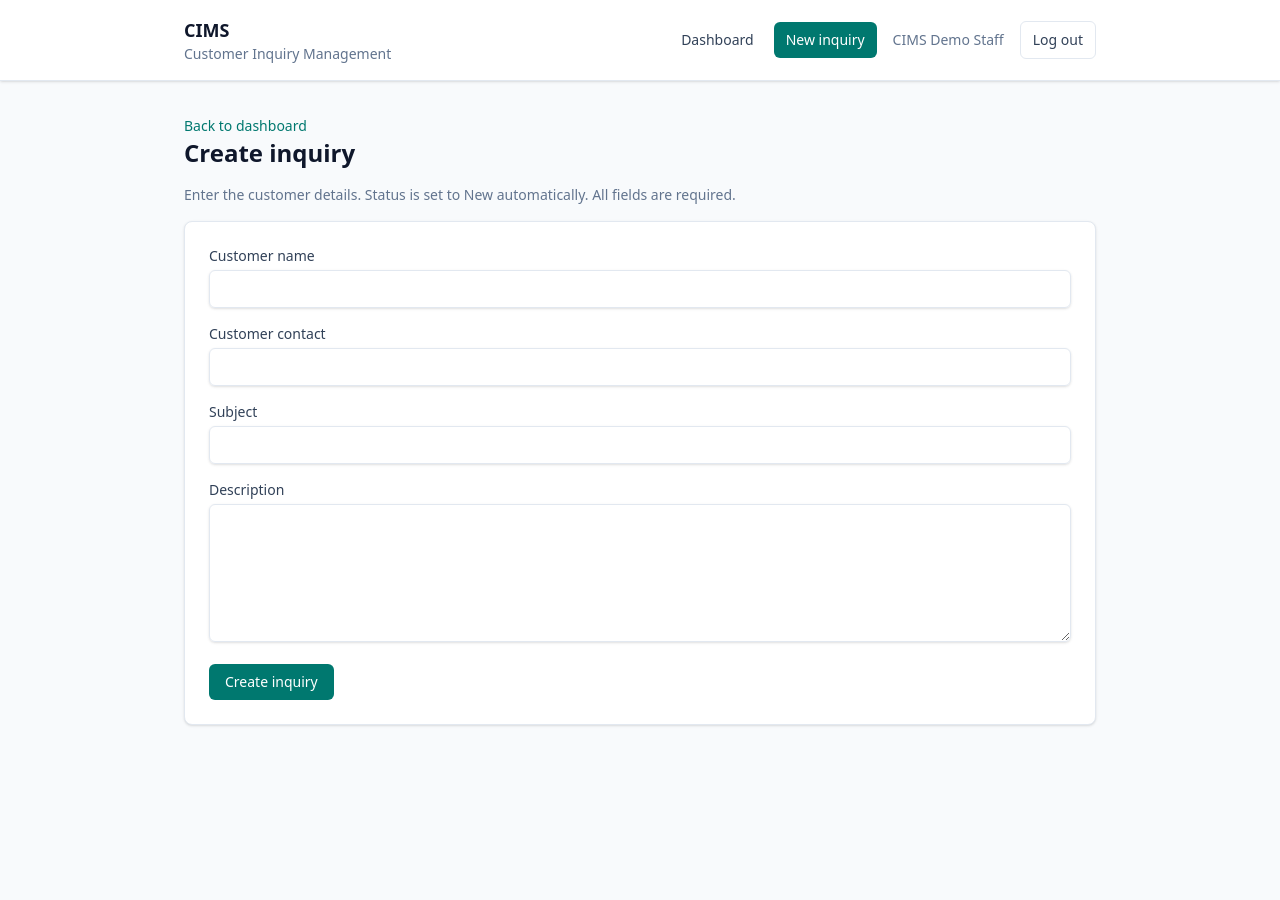
Create inquiry › creates an inquiry with only the four permitted fields and opens details
Type "  Ada Customer  " into the field labelled "Customer name" at (640, 289), box [209,270,1071,308]
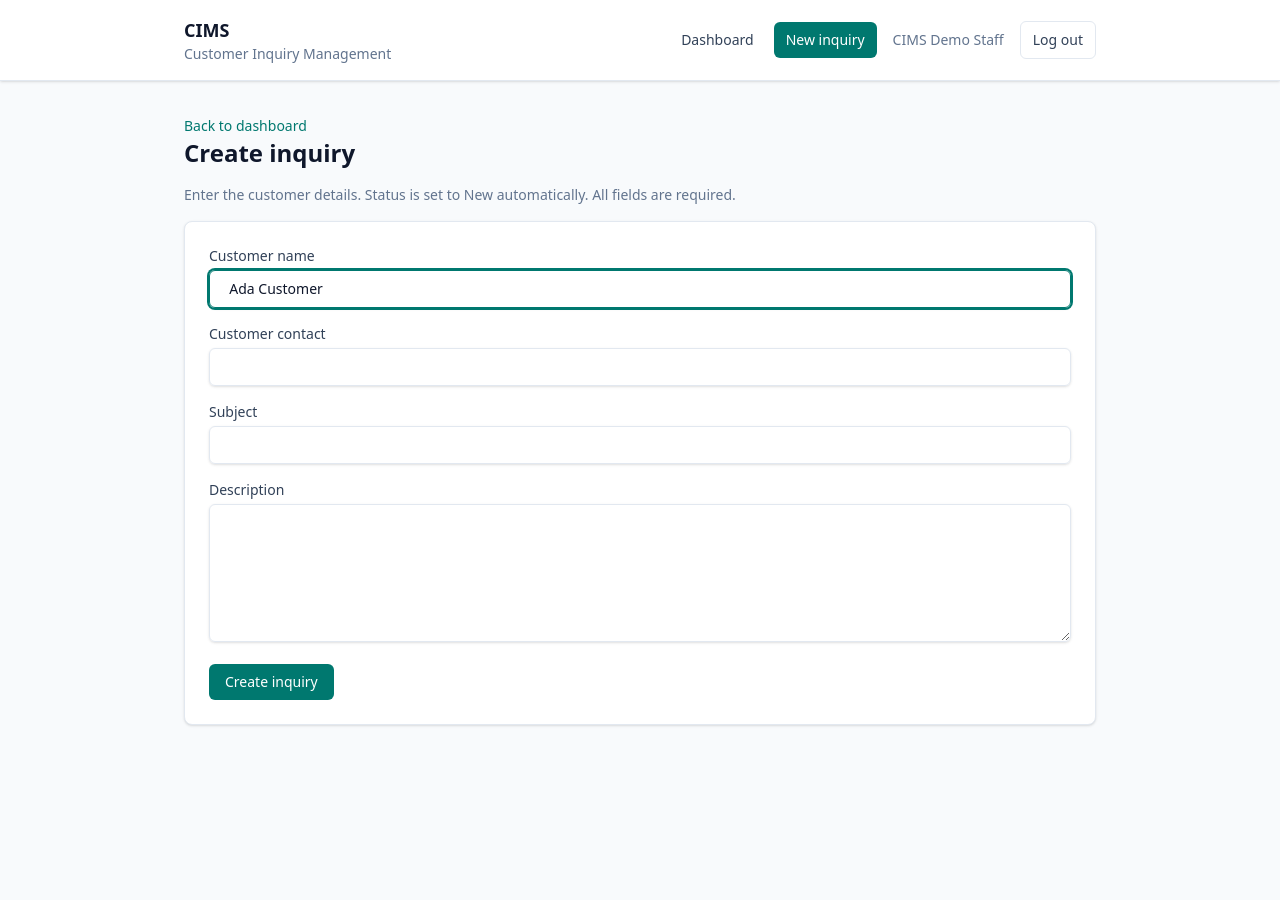
Type "ada@example.com" into the field labelled "Customer contact" at (640, 367), box [209,348,1071,386]
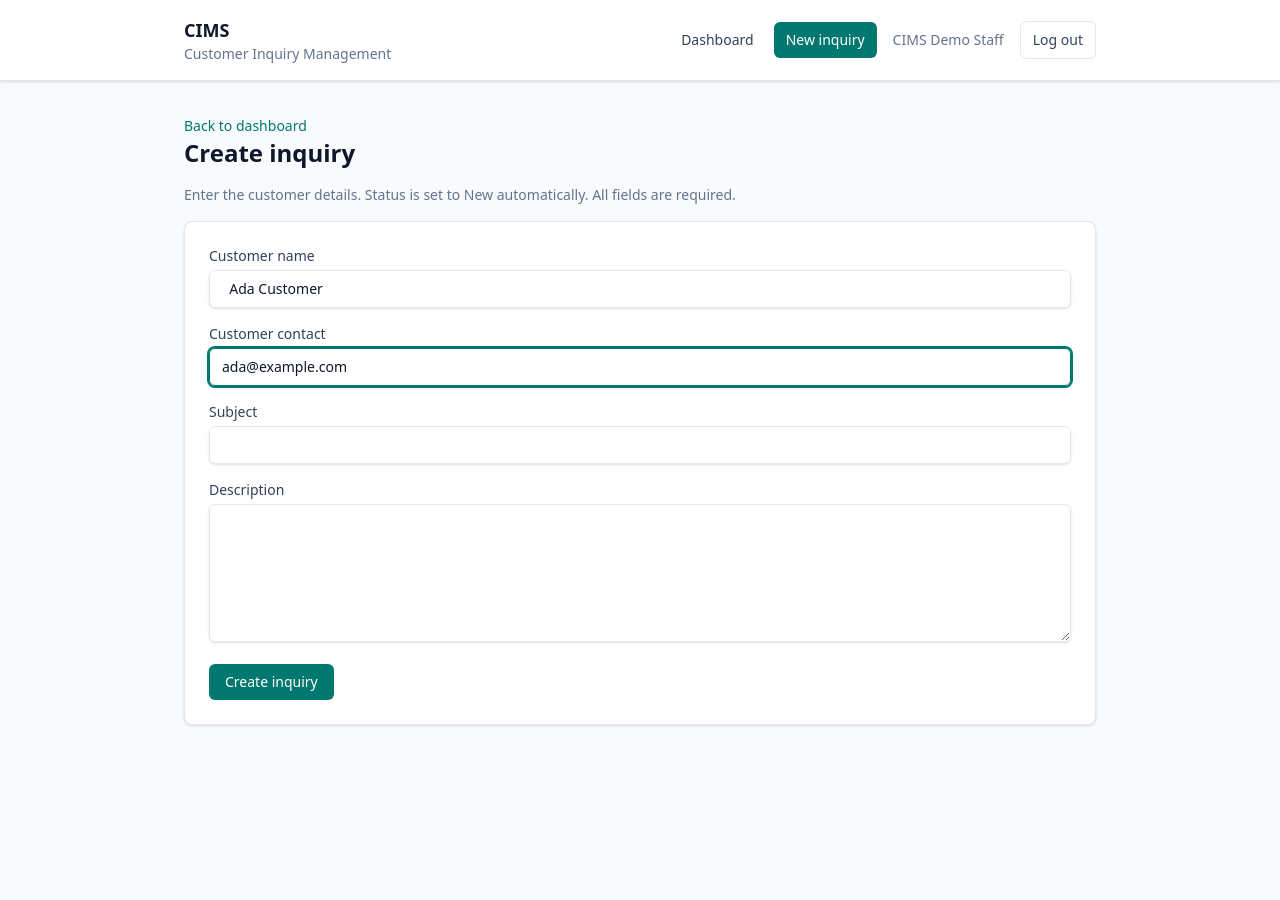
Type "Follow-up" into the field labelled "Subject" at (640, 445), box [209,426,1071,464]
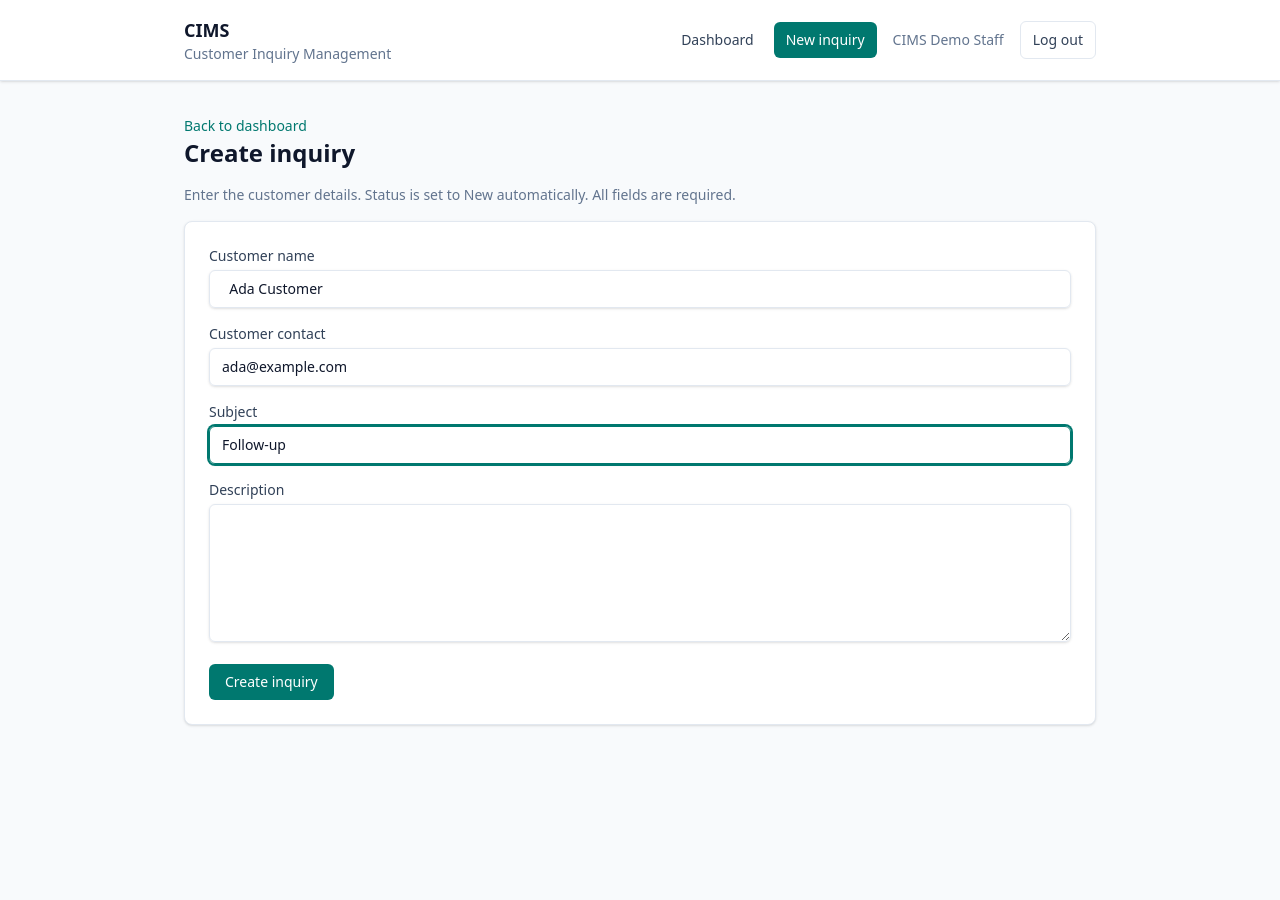
Type "Please call back." into the text box labelled "Description" at (640, 573), box [209,504,1071,642]
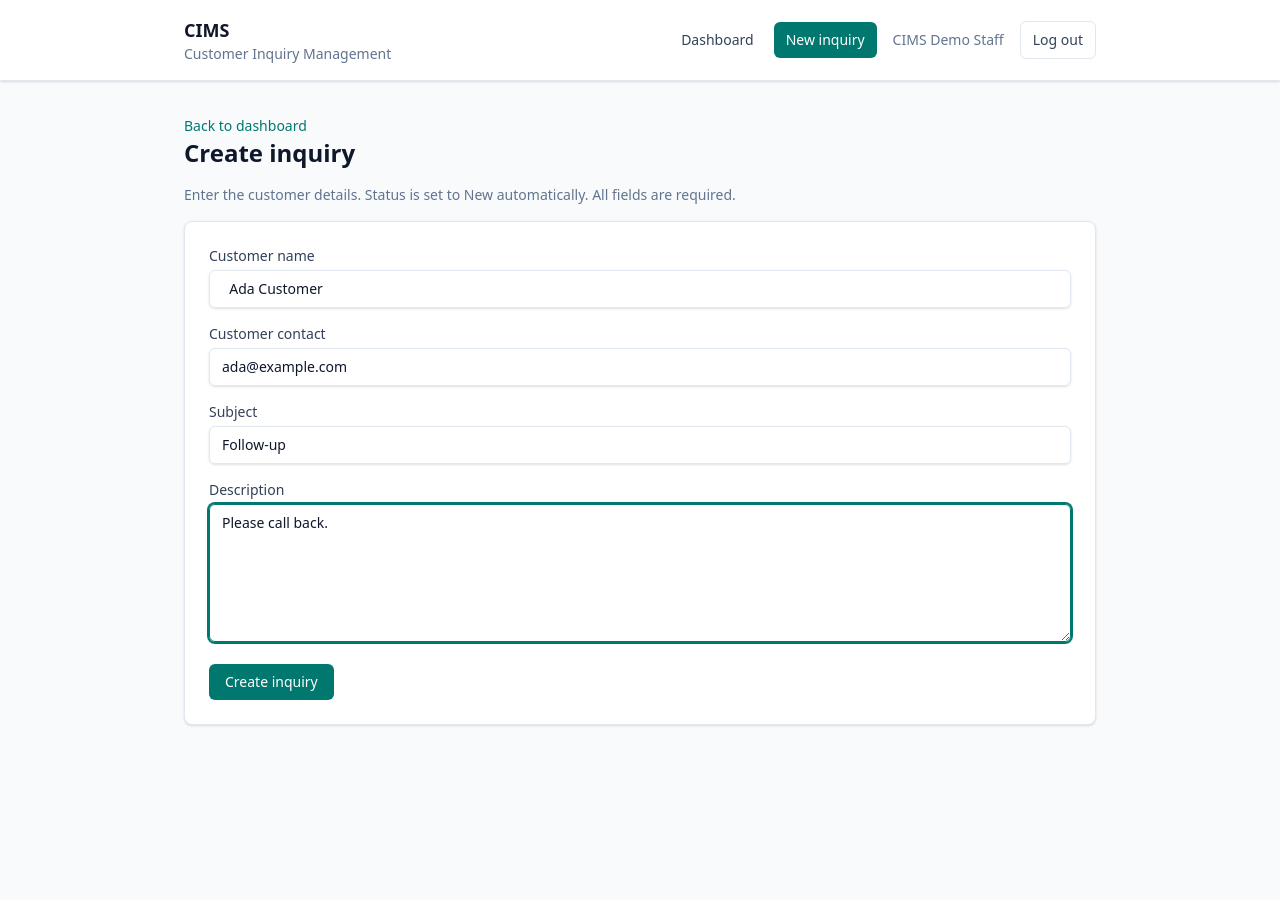
Click the button "Create inquiry" at (271, 682), box [209,664,334,700]
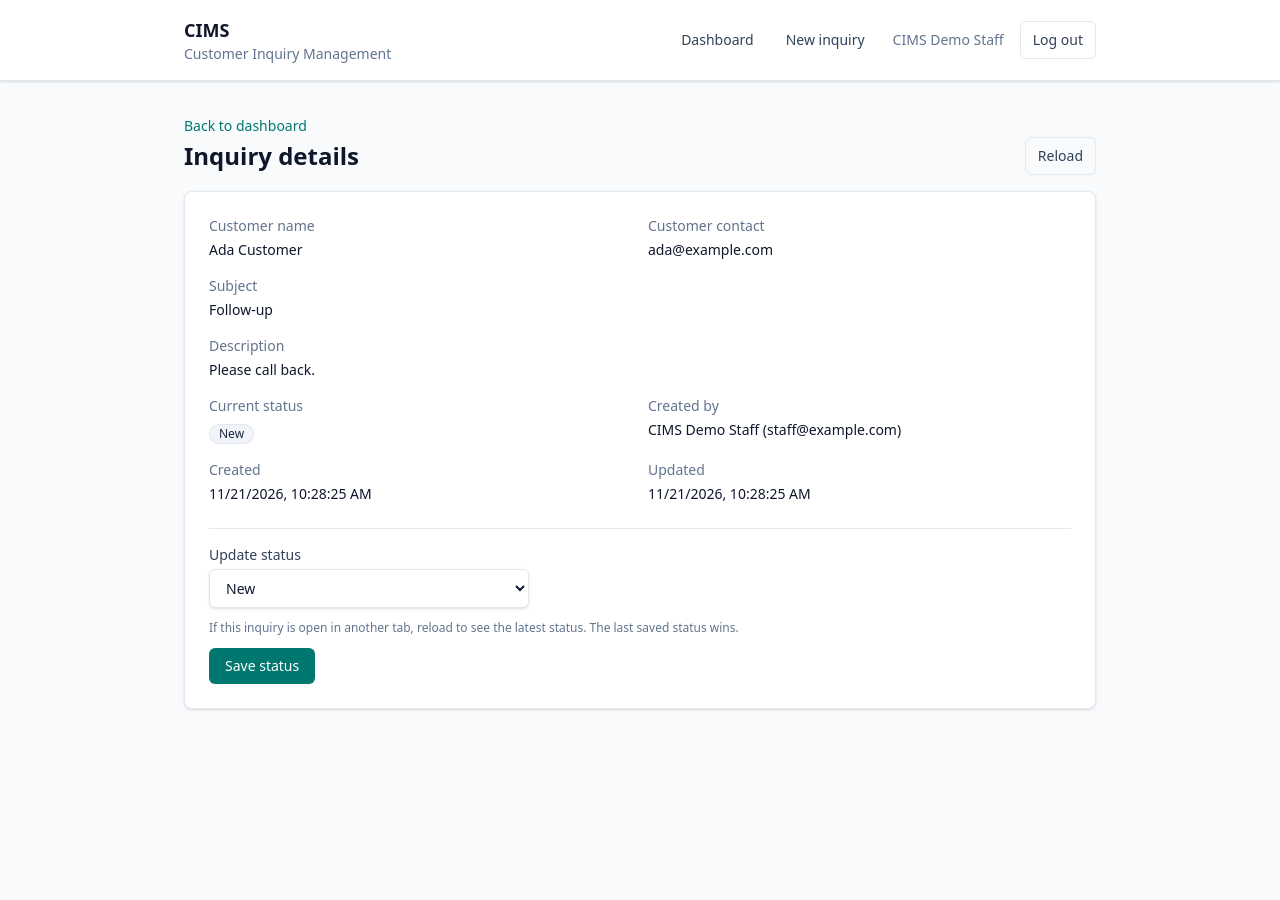
Check: the heading "Inquiry details" is shown, box [184,140,359,172]
Check: the text "Ada Customer" is shown, box [209,240,303,259]
